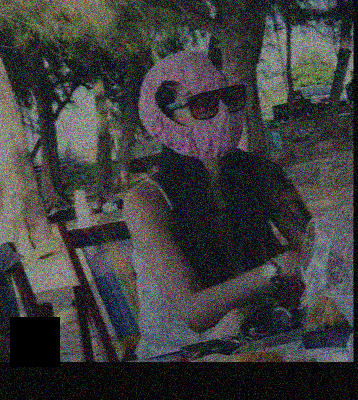with_mask: (173, 79, 244, 160)
